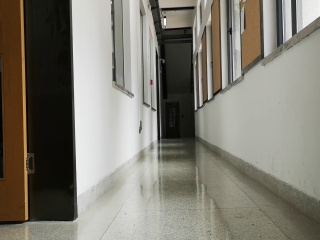room: (2, 2, 82, 230)
